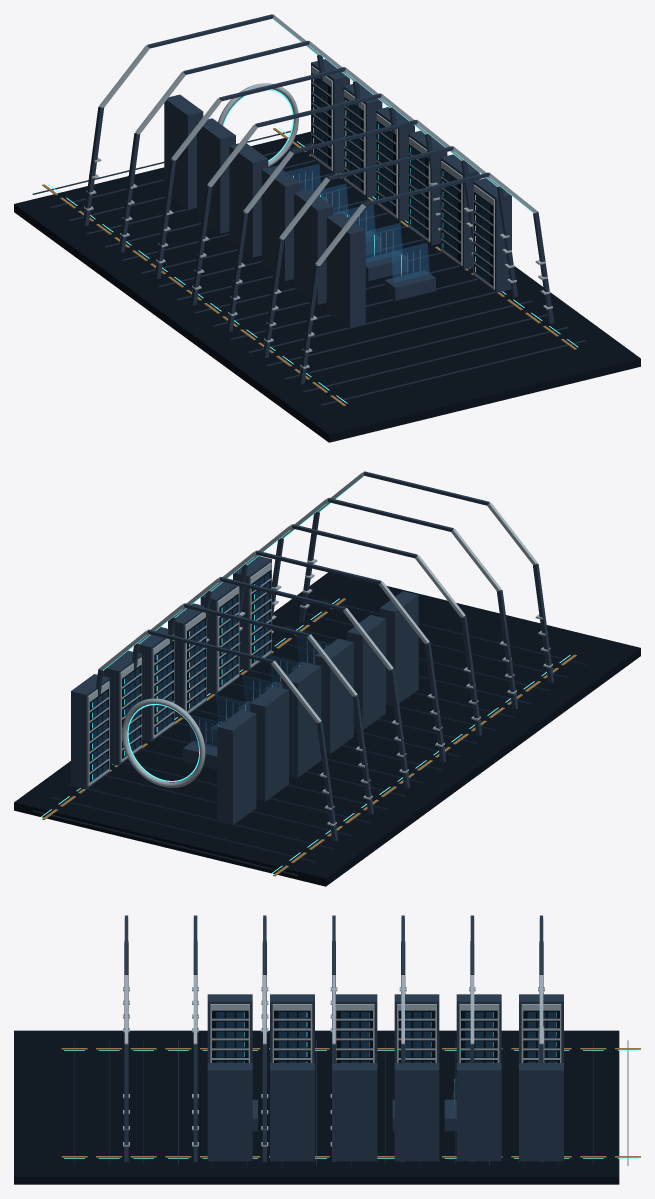
Rendered from archive-desktop.glb.
3 views of the same model, one above another, from view 1: azimuth 30°, elevation 25°; view 2: azimuth 150°, elevation 25°; view 3: azimuth 270°, elevation 25° (orthographic). The views are drawn at different scales.
Visible parts, largest first — view 1: object 1, architectural-heart, object 87, object 177, object 132, object 117, object 147, object 162, object 102, object 94, object 109, object 101 (+6 smaller); view 2: object 1, architectural-heart, object 177, object 132, object 87, object 162, object 102, object 117, object 147, object 101, object 146, object 116 (+5 smaller); view 3: object 1, architectural-heart, object 94, object 109, object 124.
Part boxes in pixels (x1,y1,x2,y2): object 1: (14,131,640,442); architectural-heart: (164,59,511,328); object 87: (299,264,320,384); object 177: (82,106,103,225); object 132: (191,185,212,305); object 117: (227,212,248,331); object 147: (155,159,176,278); object 162: (119,132,140,252); object 102: (263,238,284,357); object 94: (533,211,553,323); object 109: (497,186,517,297); object 101: (363,172,489,206); object 1: (14,572,640,886); architectural-heart: (71,556,418,825); object 177: (316,721,337,841); object 132: (424,642,445,762); object 87: (533,563,553,683); object 162: (352,695,373,814); object 102: (496,590,517,709); object 117: (461,616,481,735); object 147: (388,669,409,788); object 101: (363,471,489,505); object 146: (255,550,381,584); object 116: (327,498,453,531); object 1: (14,1030,619,1184); architectural-heart: (207,994,563,1161); object 94: (124,1044,128,1161); object 109: (193,1044,197,1161); object 124: (262,1044,266,1161).
Bounding box in the file's own units: 20 × 10.64 × 36.25.
